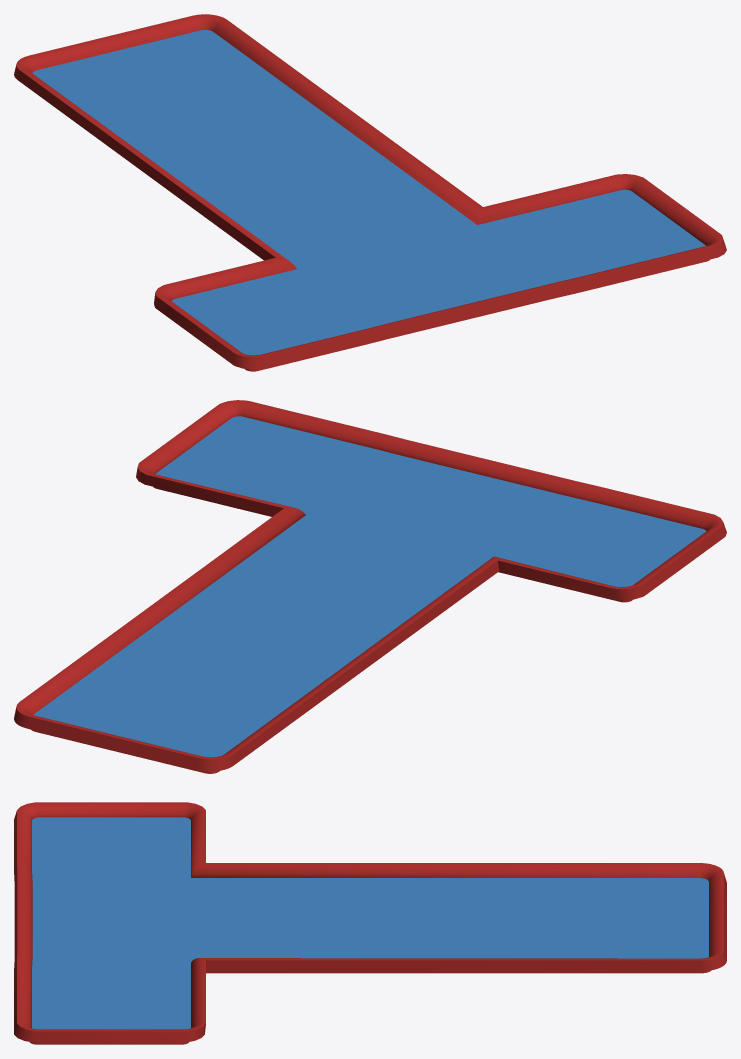
The picture shows the model from 3 angles, top to bottom: view 1: azimuth 30°, elevation 25°; view 2: azimuth 150°, elevation 25°; view 3: azimuth 270°, elevation 25°; orthographic projection. The views are drawn at different scales.
Visible parts, largest first — view 1: 对象001, Rectangle001; view 2: 对象001, Rectangle001; view 3: 对象001, Rectangle001.
Part boxes in pixels (x1,y1,x2,y2): 对象001: (32,30,705,355); Rectangle001: (14,14,726,371); 对象001: (33,416,706,757); Rectangle001: (14,400,726,773); 对象001: (32,817,708,1029); Rectangle001: (14,802,726,1044).
Bounding box in the file's own units: 95.19 × 3.62 × 124.
